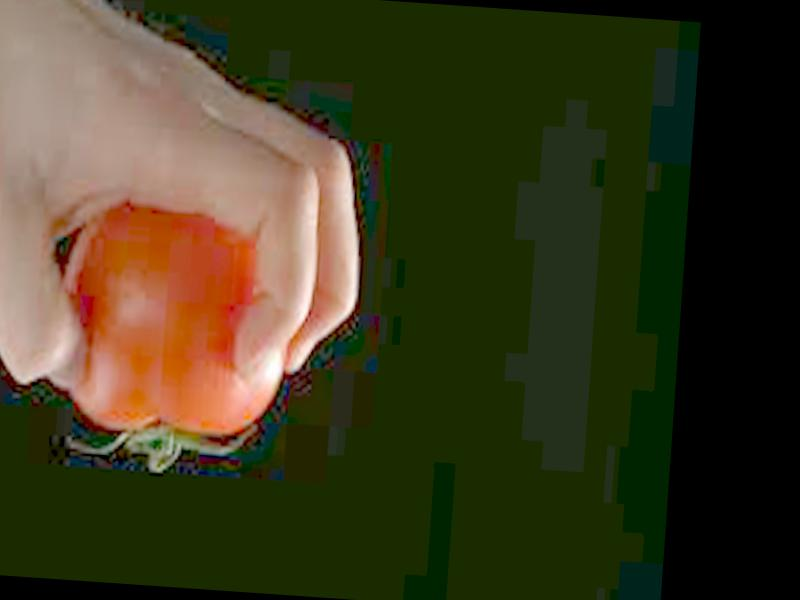Tomato: (53, 207, 292, 475)
